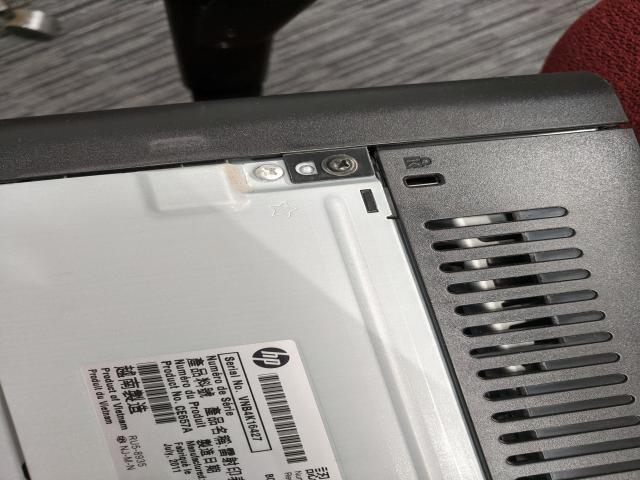CRS: (251, 163, 288, 181), (325, 156, 353, 173)
